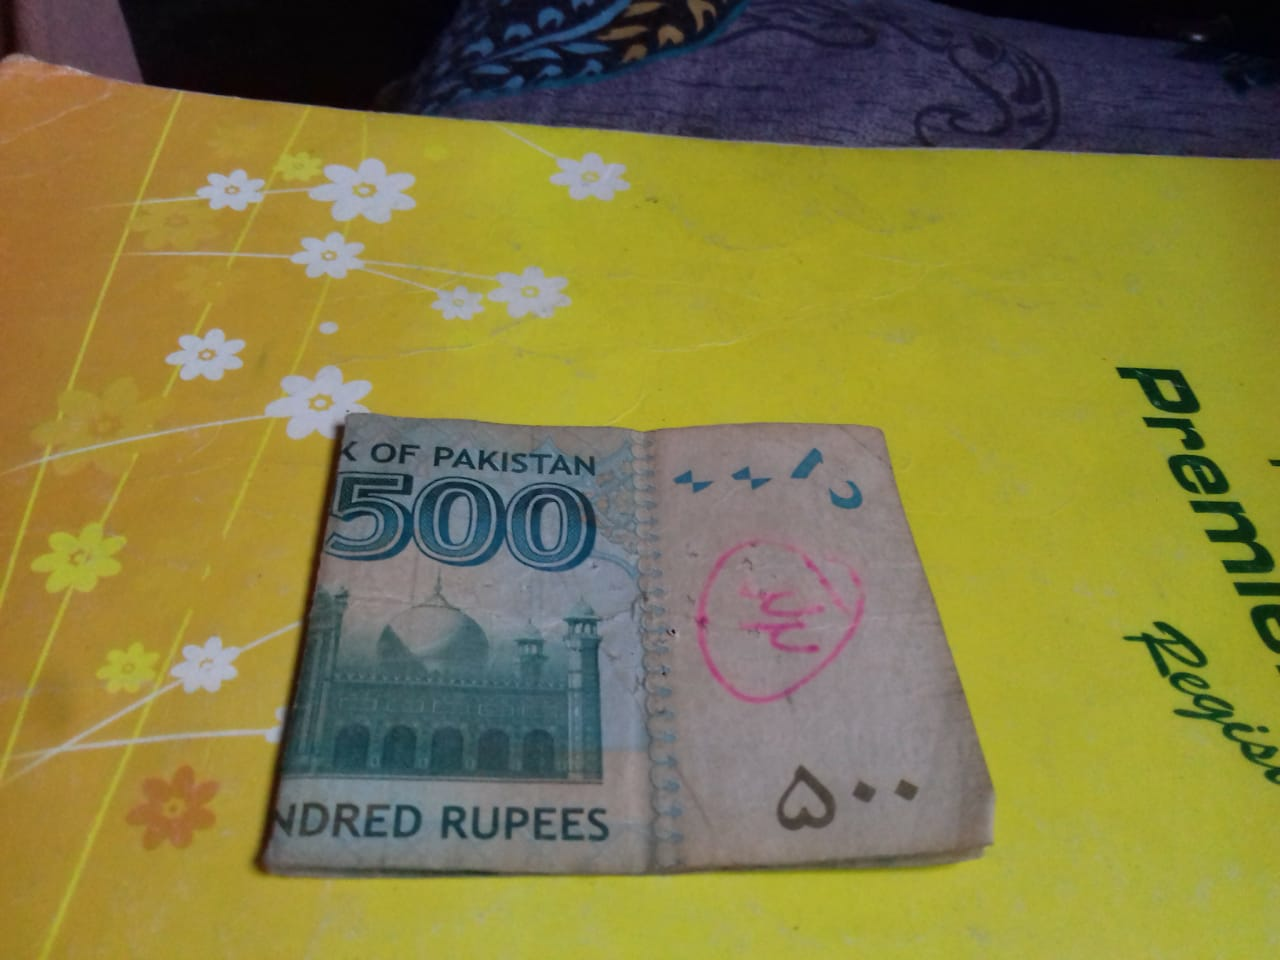500 rupee: (283, 400, 1030, 907)
